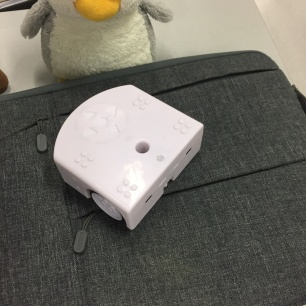thymio: (38, 83, 225, 230)
